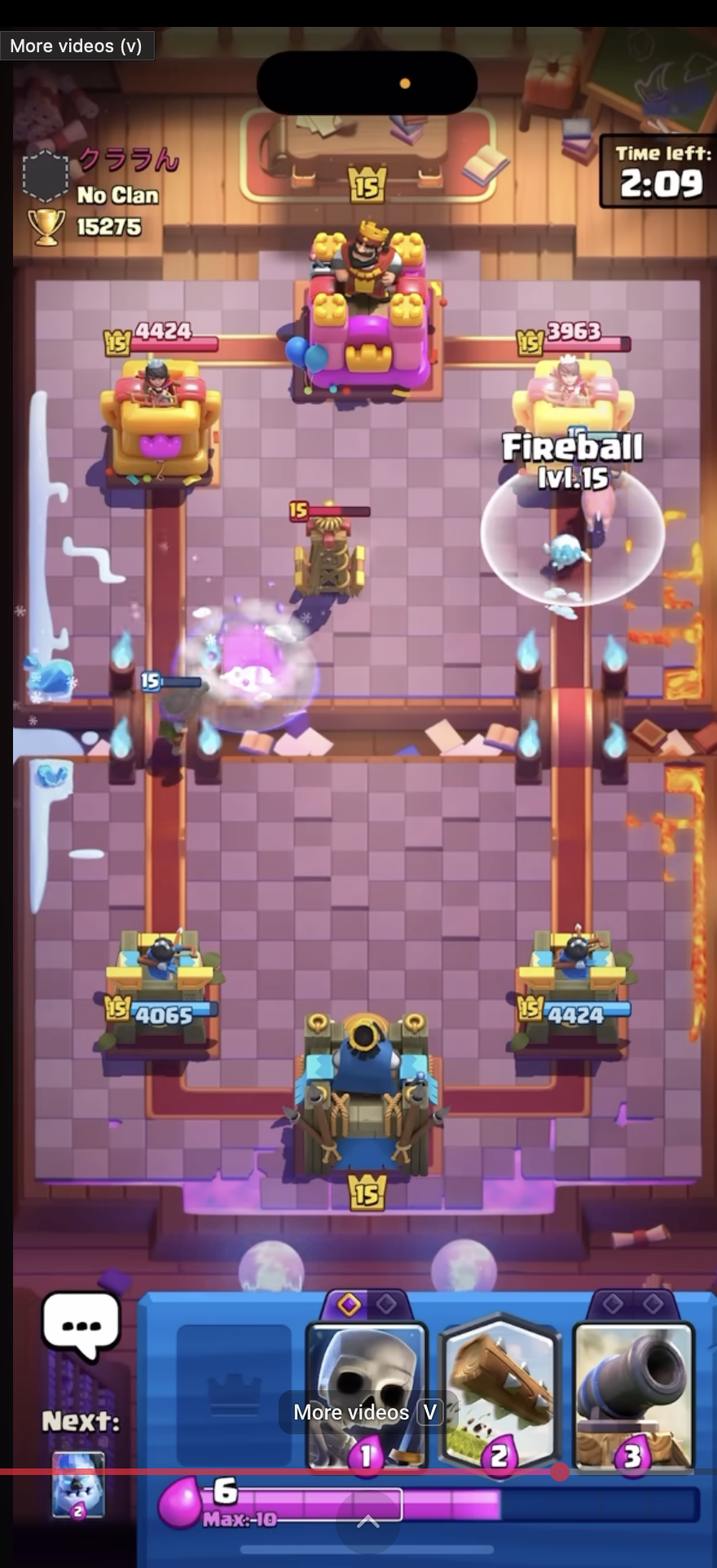tesla: (276, 491, 374, 612)
